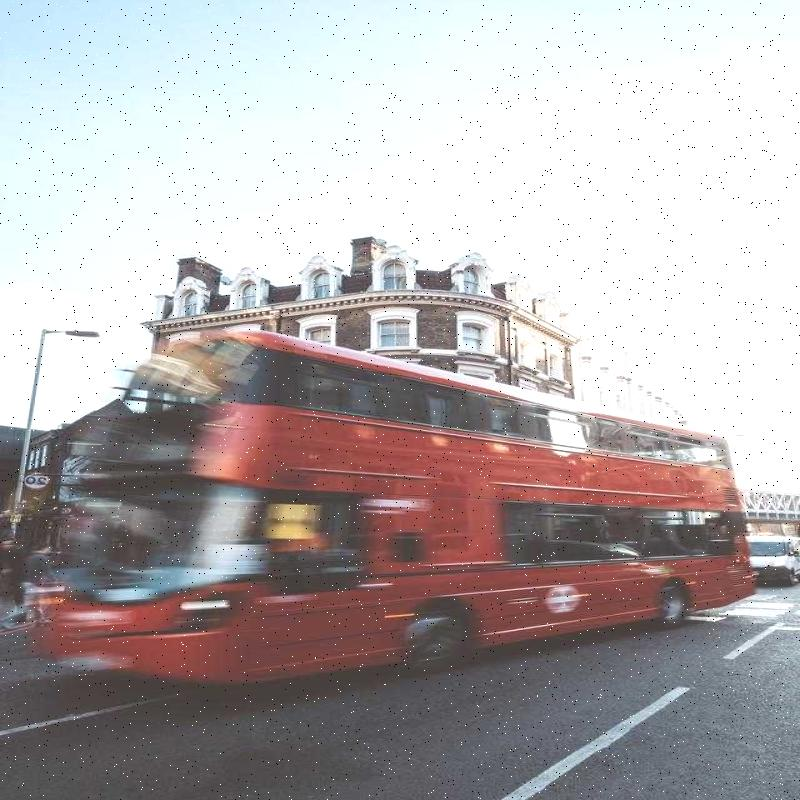bus: (85, 354, 747, 694)
